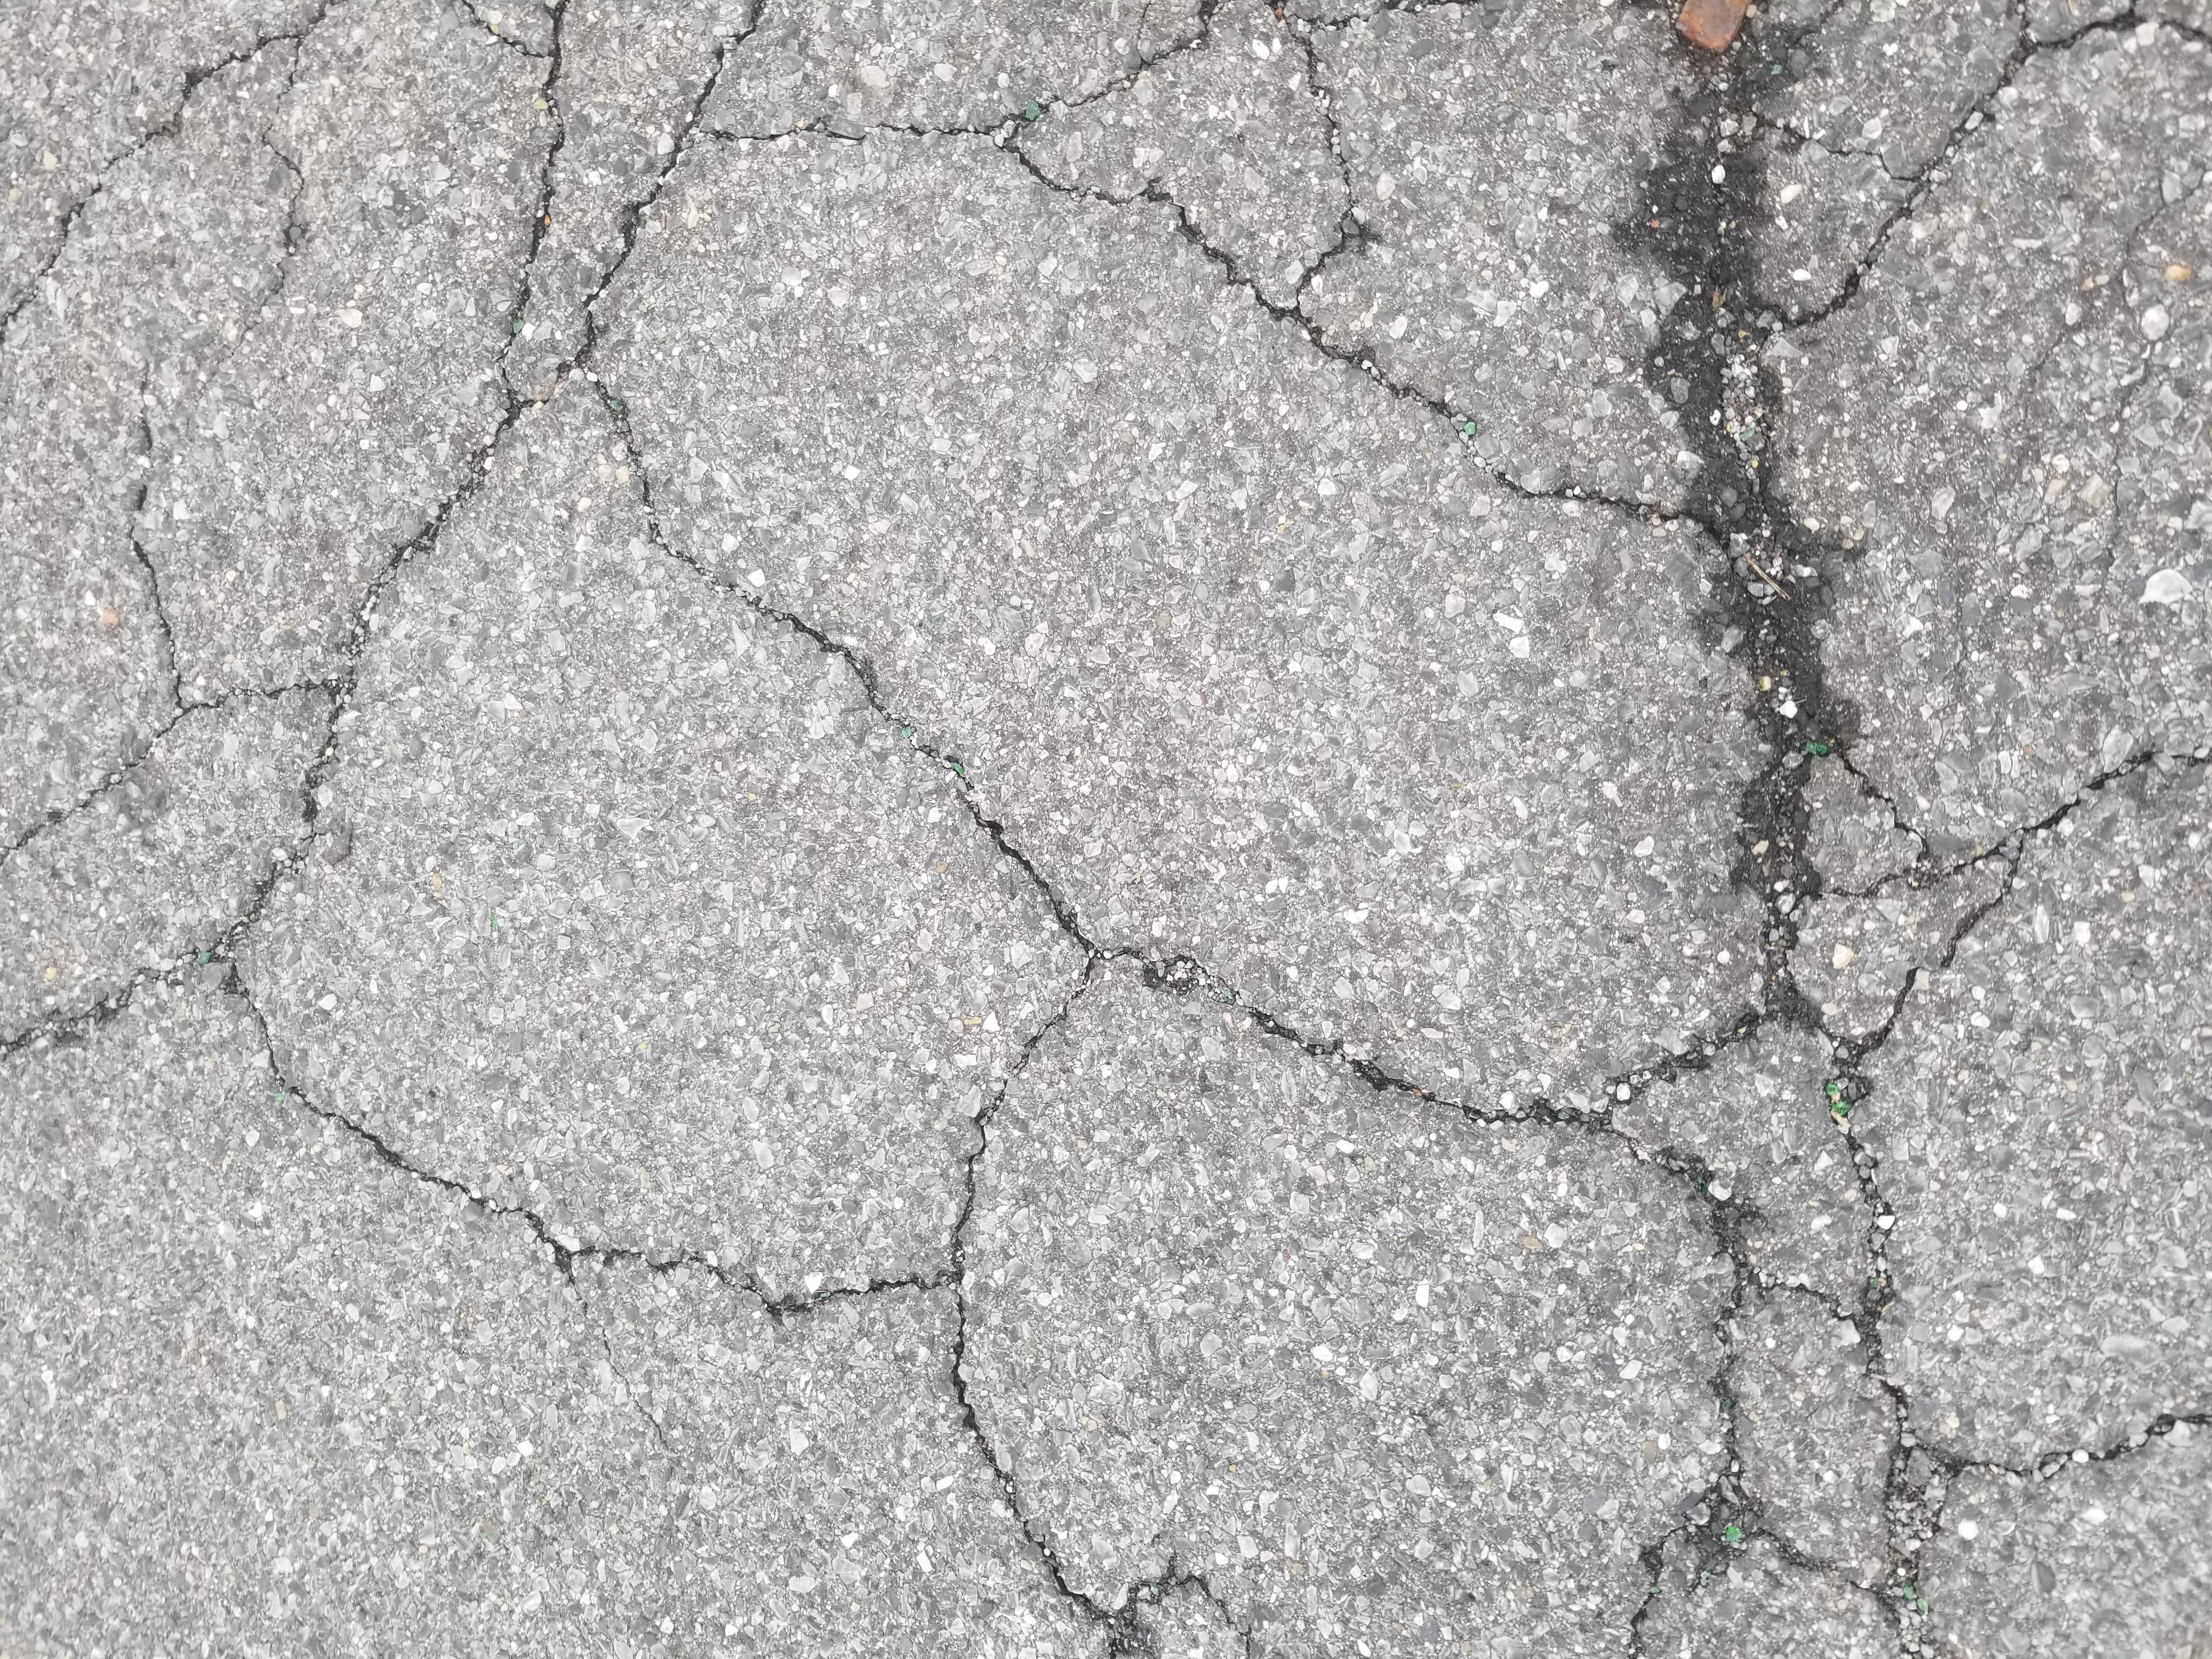alligator-crack: (202, 63, 1993, 1659)
